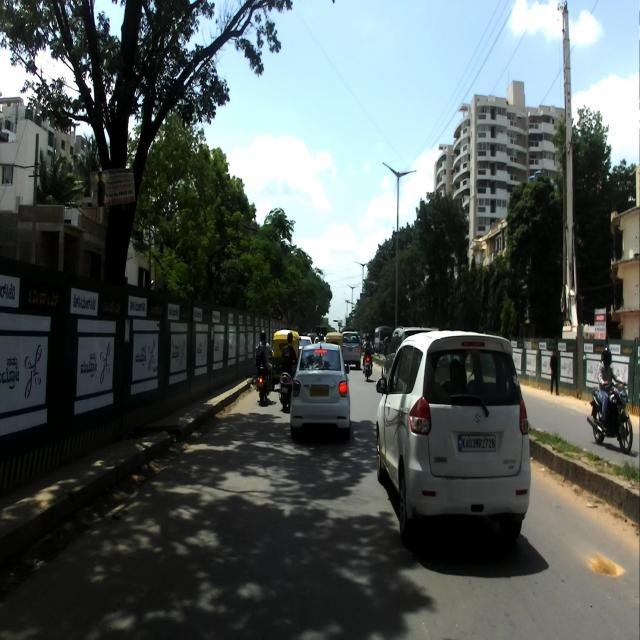Car_Hyundai: (288, 341, 351, 441)
Car_Maruti-Suzuki: (374, 329, 531, 547)
motorcycle_Honda: (587, 376, 632, 454)
